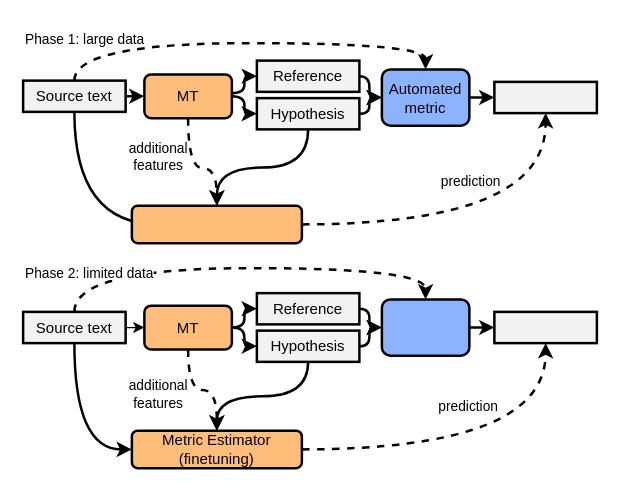
Some shapes in this 619 by 491 pixel diagram are drawn without their labels. The shapes that lost their labels are listed below. From the top down, each one's centre as x and y in pixels, then its label:
At (x=545, y=97): "Score".
At (x=216, y=224): "Metric Estimator (pretraining)".
At (x=425, y=327): "Humans".
At (x=545, y=327): "Human score".
